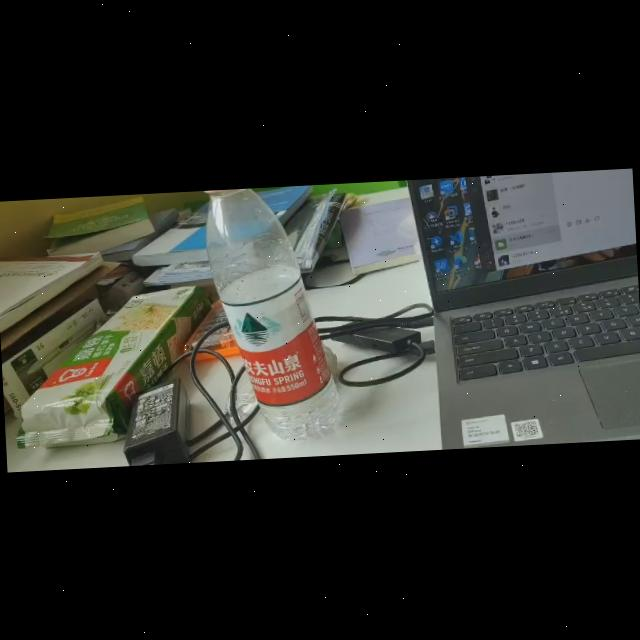trash: (194, 182, 345, 446)
